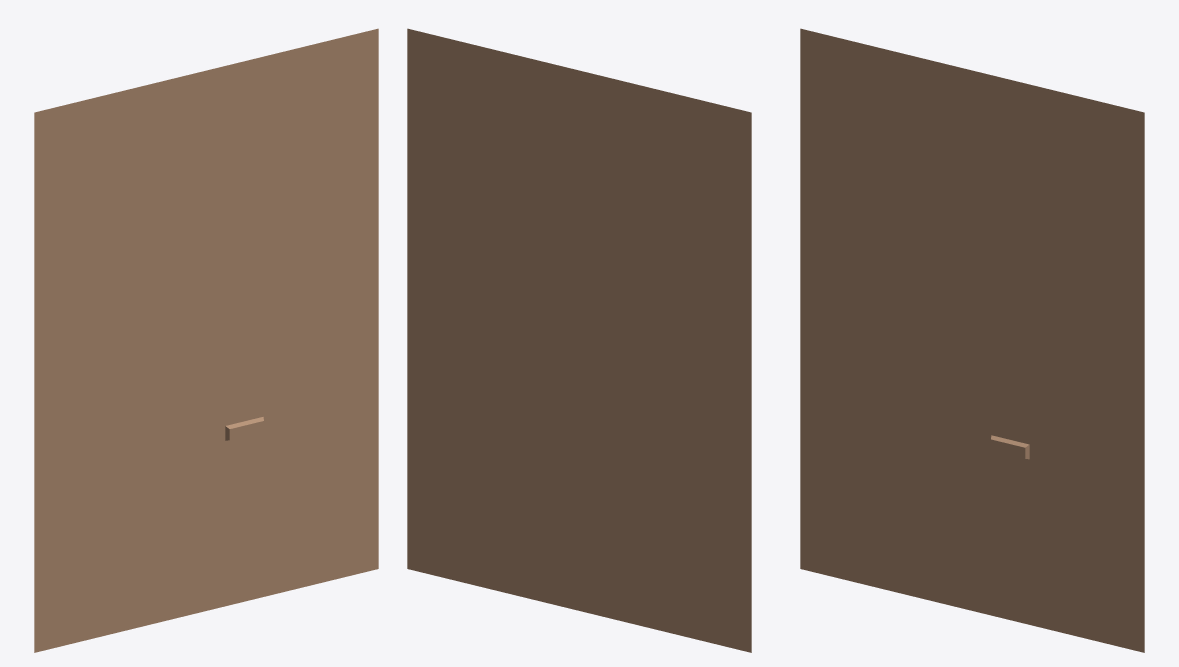
The model's file is env_block_brick_half_trim.glb.
3 renders of one model, left to right at view 1: azimuth 30°, elevation 25°; view 2: azimuth 150°, elevation 25°; view 3: azimuth 330°, elevation 25°, orthographic.
Visible parts, largest first — view 1: Brick_HalfTrim.gltf; view 2: Brick_HalfTrim.gltf; view 3: Brick_HalfTrim.gltf.
Boxes of the visible parts, x1,y1,x2,y2 form: Brick_HalfTrim.gltf: [34, 28, 378, 652]; Brick_HalfTrim.gltf: [407, 28, 751, 652]; Brick_HalfTrim.gltf: [800, 28, 1144, 652].
Size of the model in its own units: 2 by 3 by 0.2247.
